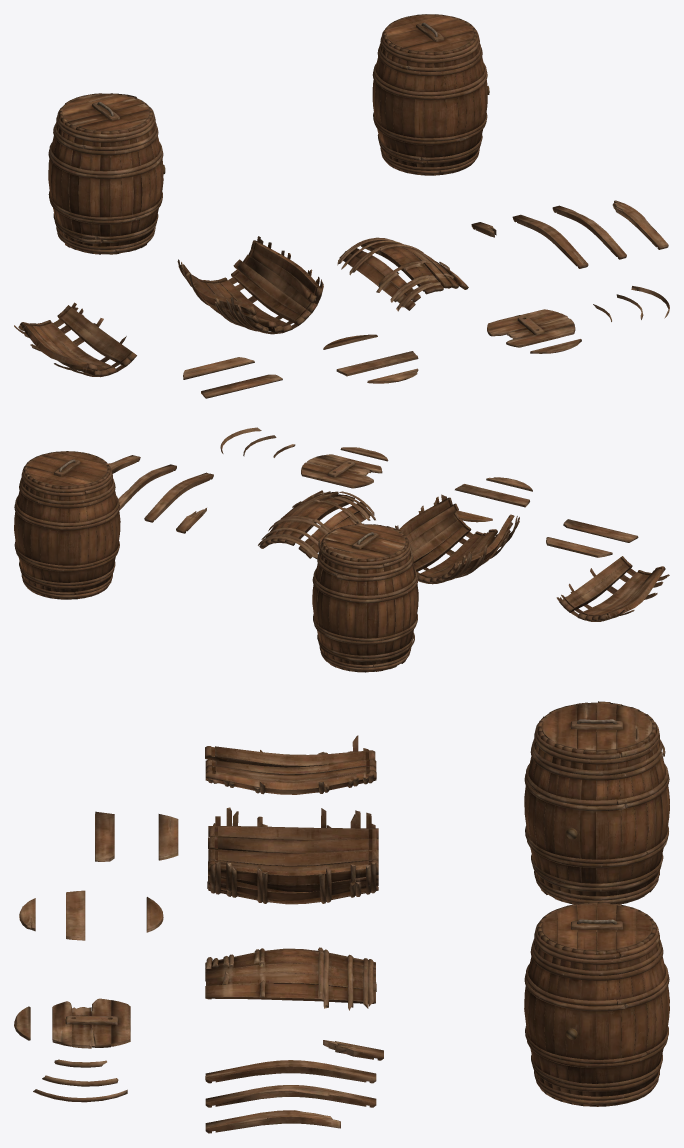
Rendered from wooden_barrels_01.glb.
3 views of the same model, one above another, from view 1: azimuth 30°, elevation 25°; view 2: azimuth 150°, elevation 25°; view 3: azimuth 270°, elevation 25° (orthographic). The views are drawn at different scales.
Visible parts, largest first — view 1: wooden_barrels_01_barrel02, wooden_barrels_01_barrel01, wooden_barrels_01_piece01, wooden_barrels_01_piece03, wooden_barrels_01_piece02, wooden_barrels_01_piece08, wooden_barrels_01_piece04, wooden_barrels_01_piece05, wooden_barrels_01_piece06, wooden_barrels_01_piece11, wooden_barrels_01_piece14, wooden_barrels_01_piece13; view 2: wooden_barrels_01_barrel02, wooden_barrels_01_barrel01, wooden_barrels_01_piece01, wooden_barrels_01_piece03, wooden_barrels_01_piece02, wooden_barrels_01_piece08, wooden_barrels_01_piece04, wooden_barrels_01_piece14, wooden_barrels_01_piece11, wooden_barrels_01_piece05, wooden_barrels_01_piece13; view 3: wooden_barrels_01_barrel01, wooden_barrels_01_barrel02, wooden_barrels_01_piece01, wooden_barrels_01_piece03, wooden_barrels_01_piece02, wooden_barrels_01_piece08, wooden_barrels_01_piece04, wooden_barrels_01_piece05, wooden_barrels_01_piece06, wooden_barrels_01_piece11, wooden_barrels_01_piece14, wooden_barrels_01_piece13 (+1 smaller).
Part boxes in pixels (x1,y1,x2,y2): wooden_barrels_01_barrel02: (48,93,165,254); wooden_barrels_01_barrel01: (372,14,489,175); wooden_barrels_01_piece01: (177,236,323,334); wooden_barrels_01_piece03: (337,237,468,311); wooden_barrels_01_piece02: (14,302,136,377); wooden_barrels_01_piece08: (487,309,575,347); wooden_barrels_01_piece04: (512,214,588,268); wooden_barrels_01_piece05: (552,205,626,259); wooden_barrels_01_piece06: (612,200,668,249); wooden_barrels_01_piece11: (336,351,418,376); wooden_barrels_01_piece14: (201,374,282,398); wooden_barrels_01_piece13: (183,357,254,379); wooden_barrels_01_barrel02: (312,523,418,672); wooden_barrels_01_barrel01: (14,451,120,599); wooden_barrels_01_piece01: (395,494,519,584); wooden_barrels_01_piece03: (258,490,375,558); wooden_barrels_01_piece02: (556,556,669,621); wooden_barrels_01_piece08: (301,454,382,488); wooden_barrels_01_piece04: (144,472,213,522); wooden_barrels_01_piece14: (563,519,638,542); wooden_barrels_01_piece11: (455,484,529,507); wooden_barrels_01_piece05: (118,464,176,510); wooden_barrels_01_piece13: (546,537,612,557); wooden_barrels_01_barrel01: (524,902,669,1106); wooden_barrels_01_barrel02: (524,701,669,904); wooden_barrels_01_piece01: (207,807,378,904); wooden_barrels_01_piece03: (205,947,376,1010); wooden_barrels_01_piece02: (205,735,376,794); wooden_barrels_01_piece08: (52,998,130,1048); wooden_barrels_01_piece04: (205,1060,376,1083); wooden_barrels_01_piece05: (205,1085,376,1107); wooden_barrels_01_piece06: (205,1110,340,1133); wooden_barrels_01_piece11: (66,890,85,940); wooden_barrels_01_piece14: (95,811,114,861); wooden_barrels_01_piece13: (158,814,178,860).
Size of the model in its own units: 4.44 by 0.9561 by 3.34.
Materials: 3 (3 with a texture image).
